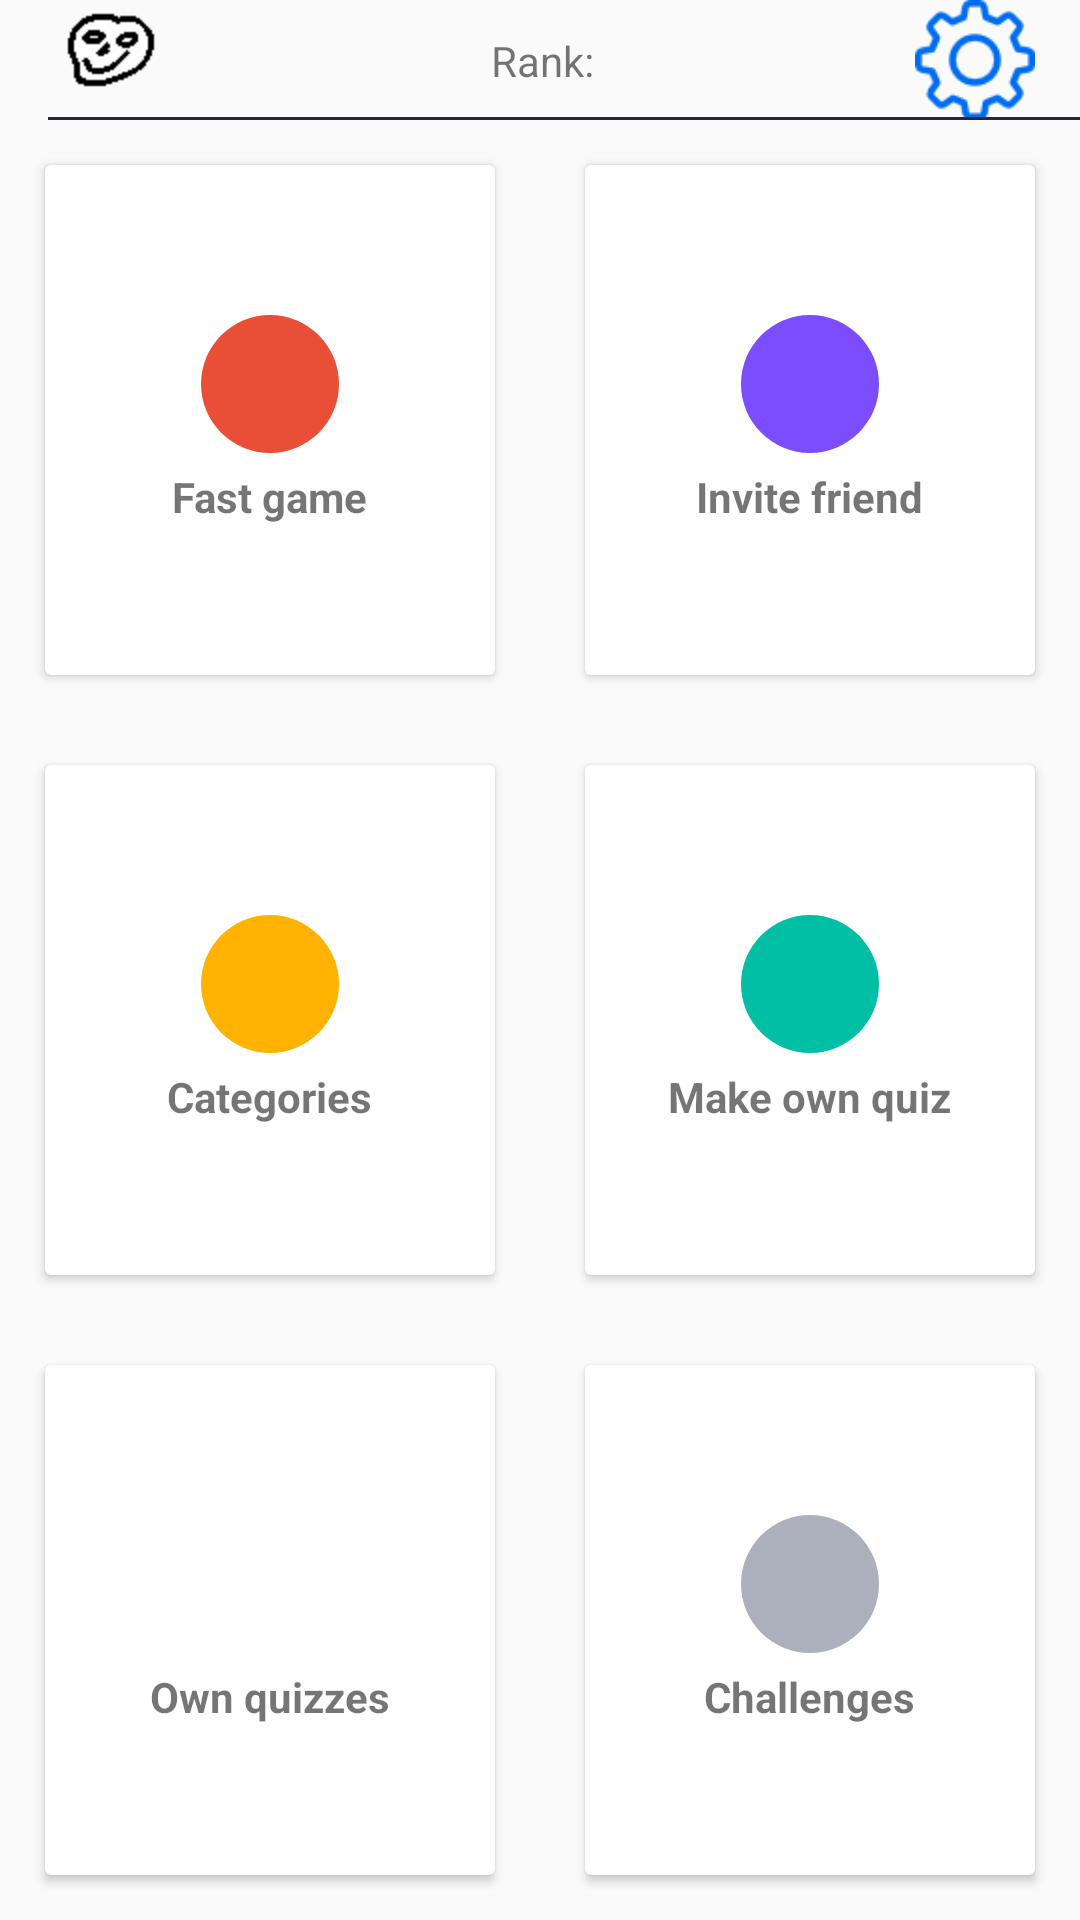

Icons on this 1080 x 1920 Android screen, each with its box as (x1, y1, x2, y2):
settings: (915, 0, 1035, 120)
